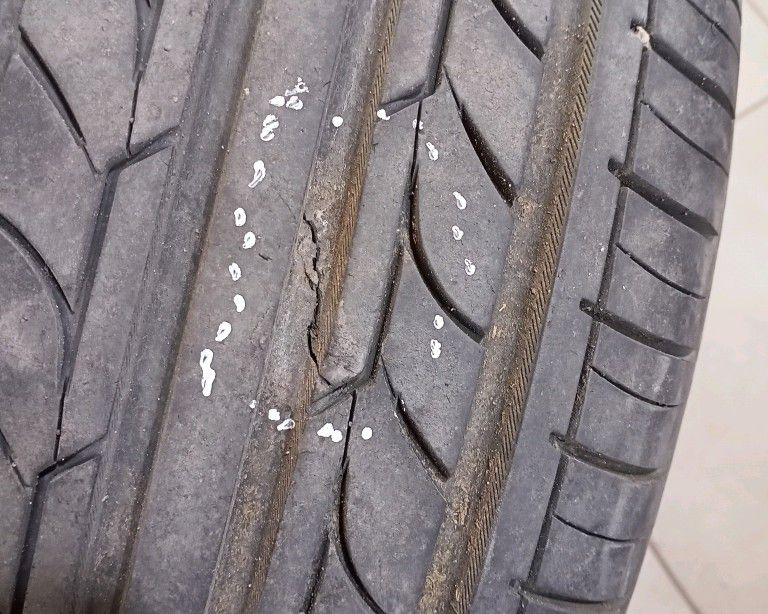tr: (300, 208, 384, 408)
